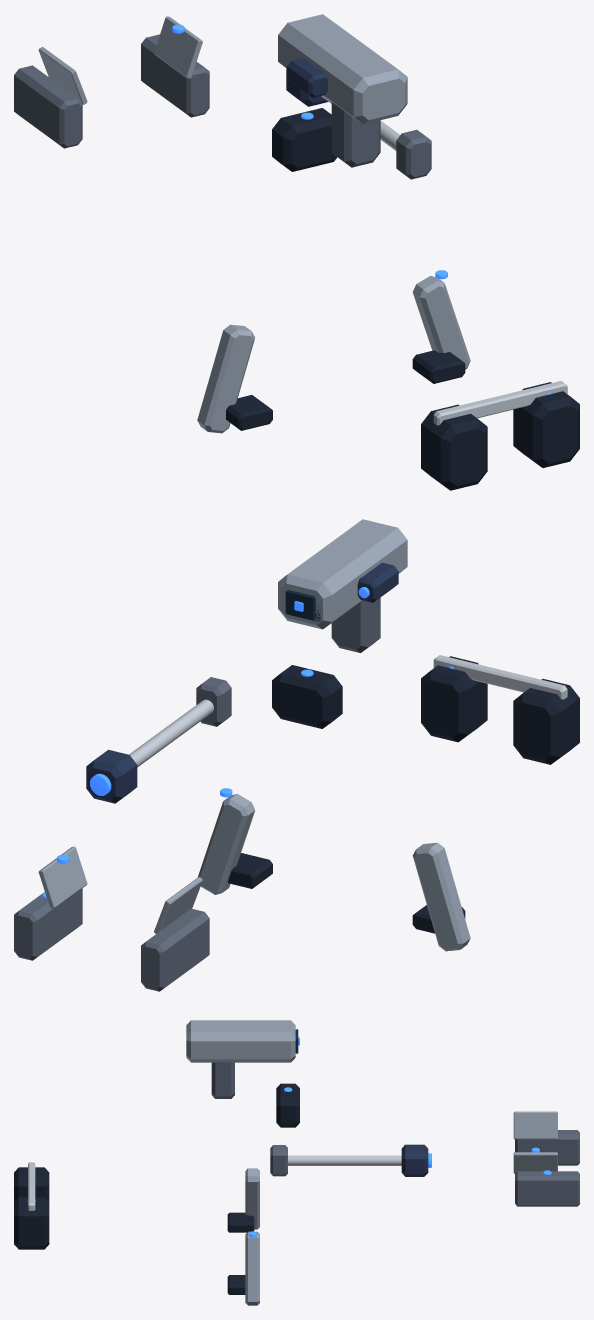
Rendered from tower_lance_range_s9.glb.
3 views of the same model, one above another, from view 1: azimuth 30°, elevation 25°; view 2: azimuth 150°, elevation 25°; view 3: azimuth 270°, elevation 25° (orthographic). The views are drawn at different scales.
Parts seen in each view (by area): view 1: lance_optic_long, lance_counterweight_r, lance_counterweight_l, lance_shroud_ext_r, lance_brace_gusset_r, lance_optic_shade_deep, lance_shroud_ext_l, lance_brace_gusset_l, lance_optic_riser, lance_counterweight_bar, lance_stab_fin_l, lance_designator_mount (+4 smaller); view 2: lance_optic_long, lance_counterweight_r, lance_counterweight_l, lance_shroud_ext_r, lance_brace_gusset_r, lance_optic_shade_deep, lance_brace_gusset_l, lance_shroud_ext_l, lance_optic_riser, lance_counterweight_bar, lance_designator_head, lance_stab_fin_l (+6 smaller); view 3: lance_optic_long, lance_shroud_ext_l, lance_counterweight_l, lance_shroud_ext_r, lance_stab_fin_r, lance_designator_boom, lance_brace_gusset_l, lance_optic_shade_deep, lance_stab_fin_l, lance_counterweight_r, lance_designator_head, lance_optic_riser (+5 smaller).
Boxes of the visible parts, x1,y1,x2,y2 form: lance_optic_long: [278, 14, 407, 124]; lance_counterweight_r: [421, 404, 487, 490]; lance_counterweight_l: [513, 382, 579, 467]; lance_shroud_ext_r: [14, 65, 82, 148]; lance_brace_gusset_r: [197, 324, 255, 433]; lance_optic_shade_deep: [272, 108, 337, 171]; lance_shroud_ext_l: [141, 34, 209, 117]; lance_brace_gusset_l: [412, 275, 470, 369]; lance_optic_riser: [331, 102, 380, 167]; lance_counterweight_bar: [433, 381, 567, 425]; lance_stab_fin_l: [154, 16, 202, 78]; lance_designator_mount: [396, 129, 431, 179]; lance_optic_long: [278, 519, 407, 629]; lance_counterweight_r: [513, 679, 579, 764]; lance_counterweight_l: [421, 656, 487, 742]; lance_shroud_ext_r: [141, 908, 209, 991]; lance_brace_gusset_r: [412, 842, 470, 951]; lance_optic_shade_deep: [272, 665, 342, 728]; lance_brace_gusset_l: [197, 794, 255, 894]; lance_shroud_ext_l: [14, 888, 82, 960]; lance_optic_riser: [331, 597, 380, 652]; lance_counterweight_bar: [433, 655, 567, 699]; lance_designator_head: [86, 749, 137, 803]; lance_stab_fin_l: [38, 846, 87, 908]; lance_optic_long: [186, 1020, 295, 1062]; lance_shroud_ext_l: [515, 1171, 579, 1206]; lance_counterweight_l: [14, 1197, 49, 1249]; lance_shroud_ext_r: [515, 1130, 579, 1165]; lance_stab_fin_r: [513, 1111, 557, 1139]; lance_designator_boom: [288, 1155, 401, 1165]; lance_brace_gusset_l: [245, 1231, 259, 1305]; lance_optic_shade_deep: [276, 1083, 299, 1127]; lance_stab_fin_l: [513, 1152, 557, 1173]; lance_counterweight_r: [14, 1167, 49, 1201]; lance_designator_head: [401, 1144, 428, 1176]; lance_optic_riser: [211, 1062, 234, 1098].
Bounding box in the file's own units: 1.38 × 1.8 × 3.84.
